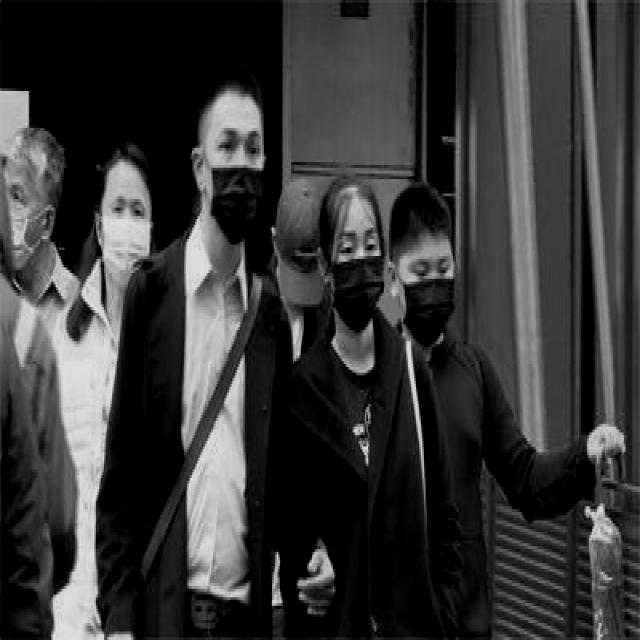face_mask: (207, 120, 266, 244), (332, 222, 386, 333), (402, 248, 456, 344), (104, 191, 155, 287), (3, 171, 35, 270)
head_nohelmet: (402, 190, 452, 259), (104, 142, 155, 196), (206, 68, 262, 111), (330, 174, 374, 228), (5, 131, 53, 176)
person: (101, 20, 334, 640), (402, 199, 618, 640), (297, 153, 450, 640), (53, 131, 158, 640)
